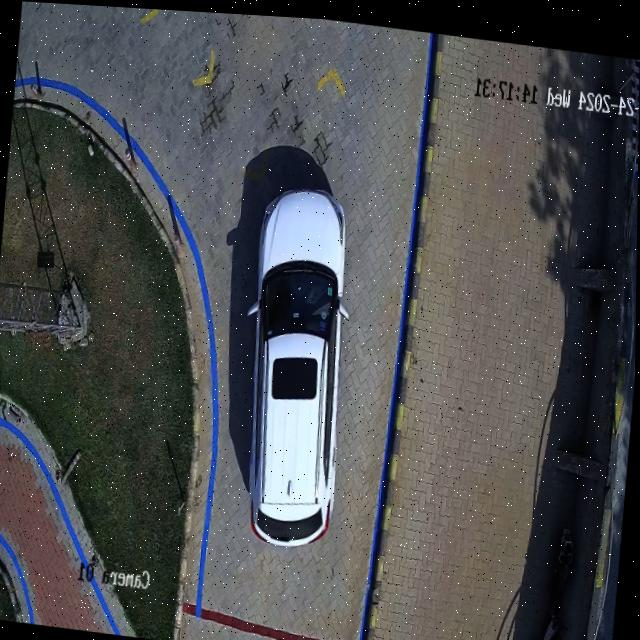car: (249, 184, 347, 542)
